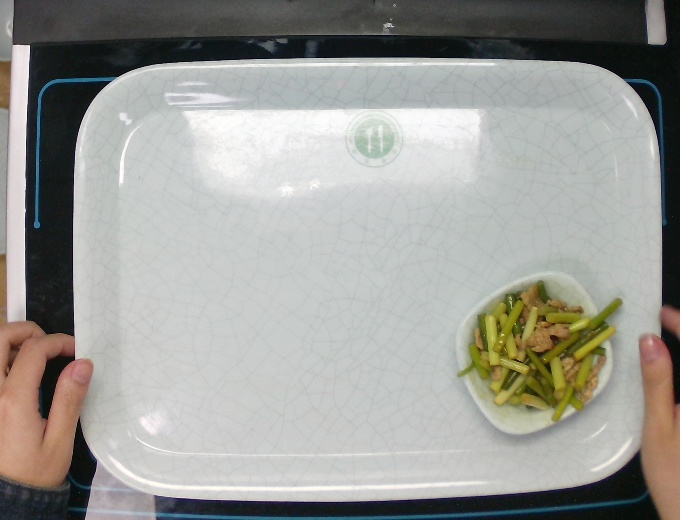JYsf-Si_Fang_Die: (454, 268, 615, 436)
